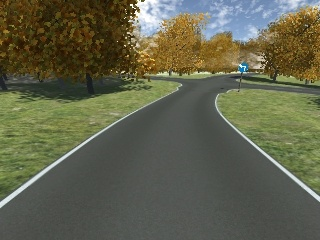TLeft: (237, 61, 248, 73)
